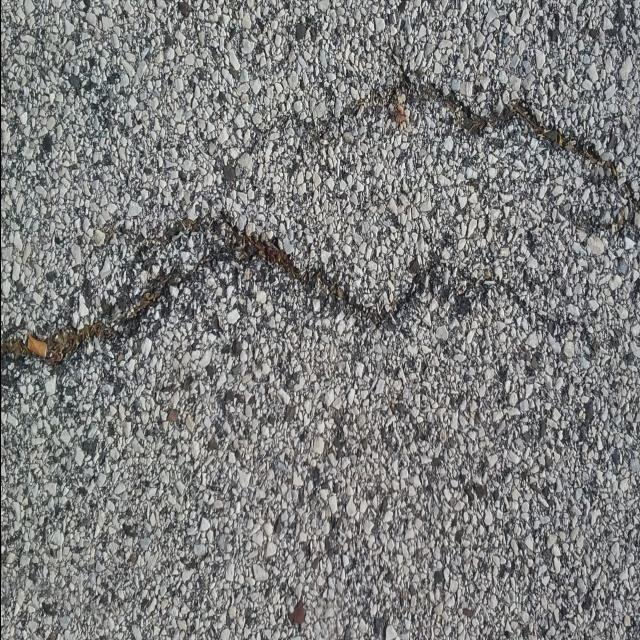Crack: (0, 215, 475, 408), (320, 64, 640, 222)
